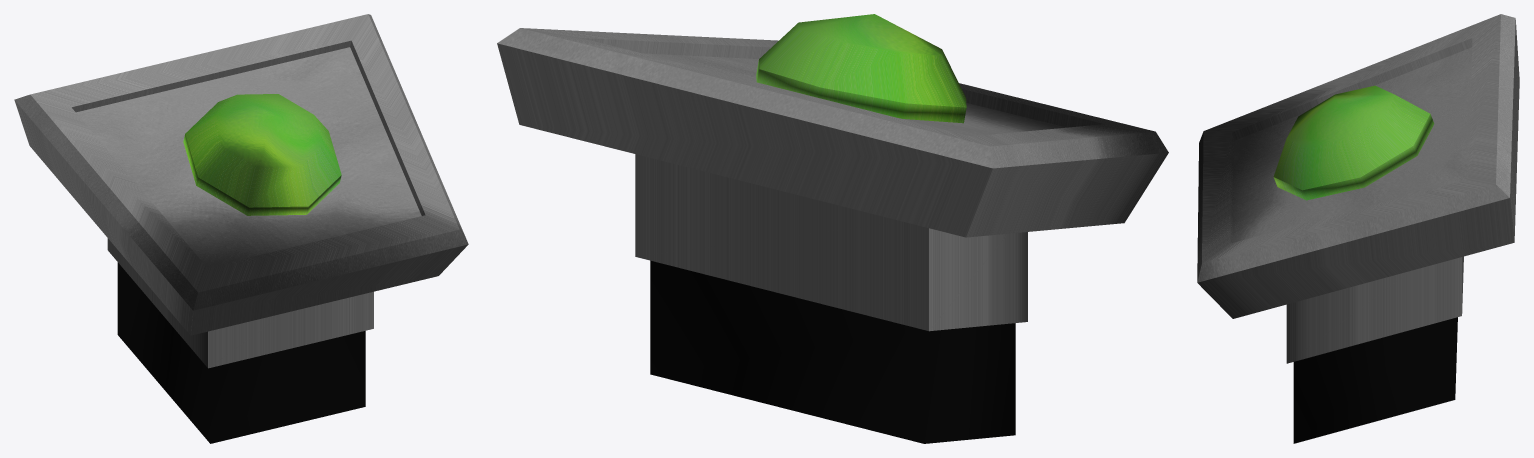
The model's file is MemeFactory_GreenButton_Art.glb.
3 renders of one model, left to right at view 1: azimuth 30°, elevation 25°; view 2: azimuth 150°, elevation 25°; view 3: azimuth 270°, elevation 25°, orthographic. The views are drawn at different scales.
Visible parts, largest first — view 1: MemeFactory_GreenButton_Art; view 2: MemeFactory_GreenButton_Art; view 3: MemeFactory_GreenButton_Art.
Boxes of the visible parts, bbox=[...] form: MemeFactory_GreenButton_Art: bbox=[14, 14, 468, 443]; MemeFactory_GreenButton_Art: bbox=[497, 14, 1168, 443]; MemeFactory_GreenButton_Art: bbox=[1197, 14, 1519, 443].
Bounding box in the file's own units: 1.43 × 1.15 × 1.08.
Materials: 3 (3 with a texture image).
